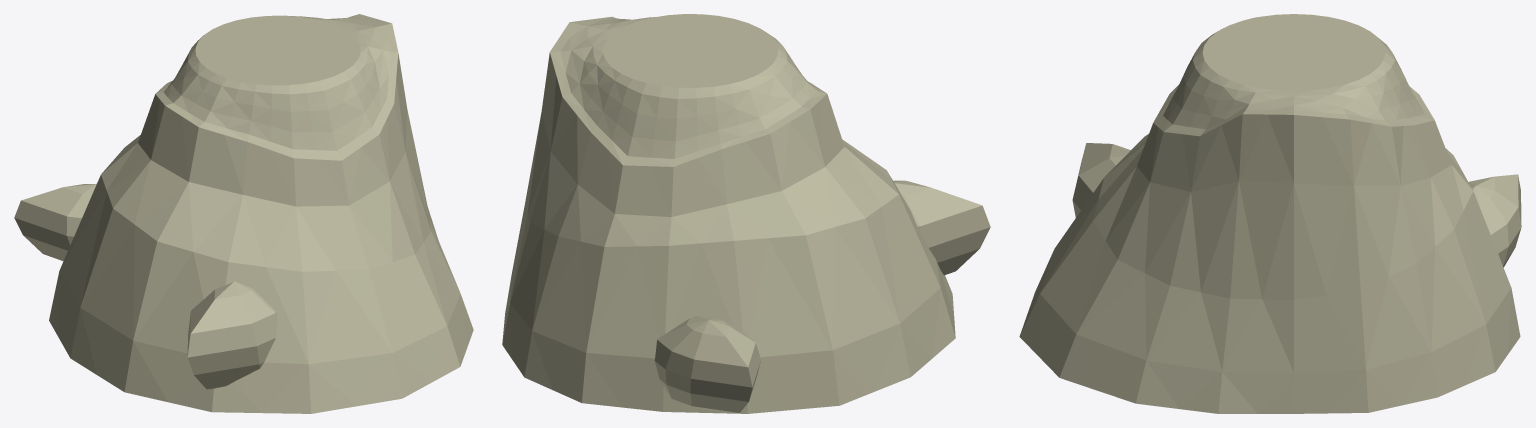
The model's file is GEO01_FARO_SEMWRIGHT_R22.glb.
3 renders of one model, left to right at view 1: azimuth 30°, elevation 25°; view 2: azimuth 150°, elevation 25°; view 3: azimuth 270°, elevation 25°, orthographic. The views are drawn at different scales.
Visible parts, largest first — view 1: SW_dc08abe78a2a_integrated_limestone, SW_dc08abe78a2a_coastal_toe, SW_dc08abe78a2a_low_shelf; view 2: SW_dc08abe78a2a_integrated_limestone, SW_dc08abe78a2a_low_shelf, SW_dc08abe78a2a_coastal_toe; view 3: SW_dc08abe78a2a_integrated_limestone, SW_dc08abe78a2a_low_shelf, SW_dc08abe78a2a_coastal_toe.
Part boxes in pixels (bbox=[...]): SW_dc08abe78a2a_integrated_limestone: bbox=[49, 14, 473, 413]; SW_dc08abe78a2a_coastal_toe: bbox=[187, 281, 277, 389]; SW_dc08abe78a2a_low_shelf: bbox=[14, 183, 96, 261]; SW_dc08abe78a2a_integrated_limestone: bbox=[502, 14, 955, 413]; SW_dc08abe78a2a_low_shelf: bbox=[654, 316, 760, 412]; SW_dc08abe78a2a_coastal_toe: bbox=[893, 180, 990, 275]; SW_dc08abe78a2a_integrated_limestone: bbox=[1019, 14, 1520, 413]; SW_dc08abe78a2a_low_shelf: bbox=[1468, 174, 1521, 267]; SW_dc08abe78a2a_coastal_toe: bbox=[1072, 143, 1130, 217].
Size of the model in its own units: 16.3 by 11.42 by 18.29.
